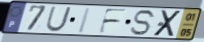7: (26, 4, 48, 33)
F: (97, 8, 130, 35)
I: (75, 7, 93, 35)
S: (129, 9, 158, 37)
U: (44, 6, 74, 33)
X: (151, 10, 184, 38)
